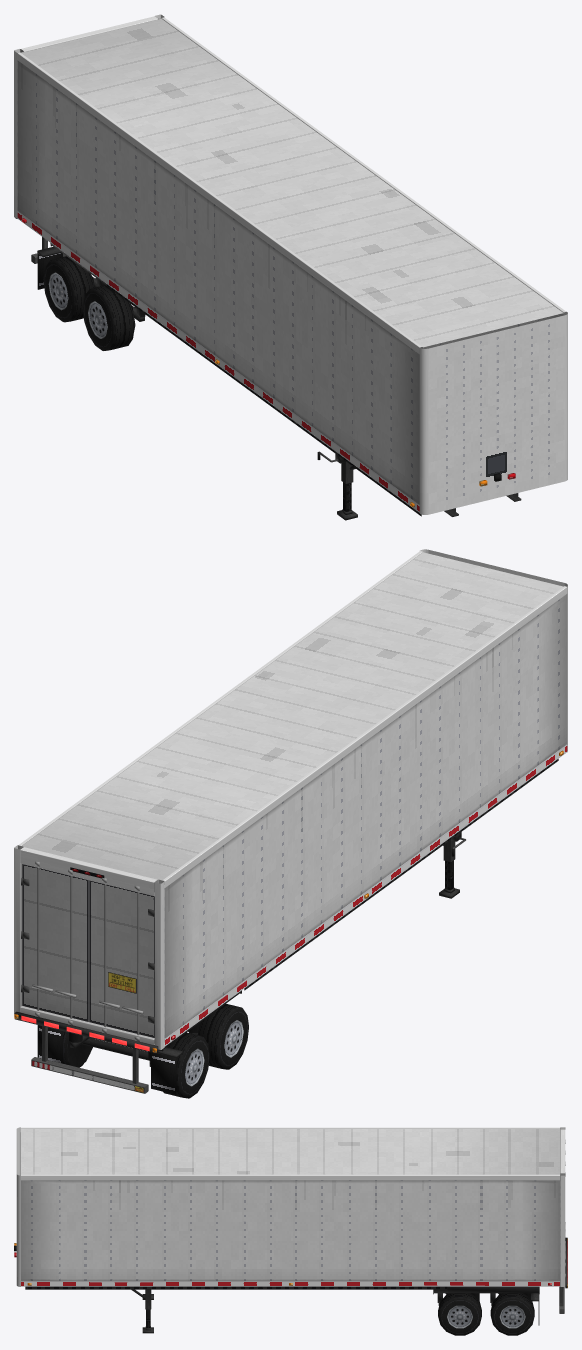
File: p_semitrailer.glb
3 views of the same model, one above another, from view 1: azimuth 30°, elevation 25°; view 2: azimuth 150°, elevation 25°; view 3: azimuth 270°, elevation 25° (orthographic). The views are drawn at different scales.
Parts seen in each view (by area): view 1: semitrailer_lod0; view 2: semitrailer_lod0; view 3: semitrailer_lod0.
Boxes of the visible parts, <box> form: semitrailer_lod0: <box>14,14,567,520</box>; semitrailer_lod0: <box>14,549,567,1098</box>; semitrailer_lod0: <box>14,1127,567,1335</box>.
Size of what is drawn, in the model's own units: 2.66 by 4.1 by 12.62.
Materials: 4 (3 with a texture image).
